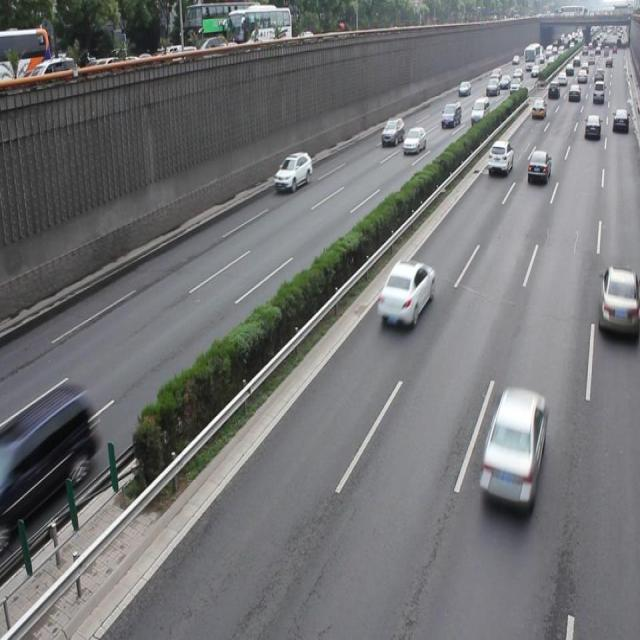car: (476, 386, 547, 504), (377, 258, 433, 328), (596, 264, 640, 336), (274, 151, 311, 192), (486, 139, 512, 177), (526, 149, 550, 182)
truck: (1, 382, 97, 544)
